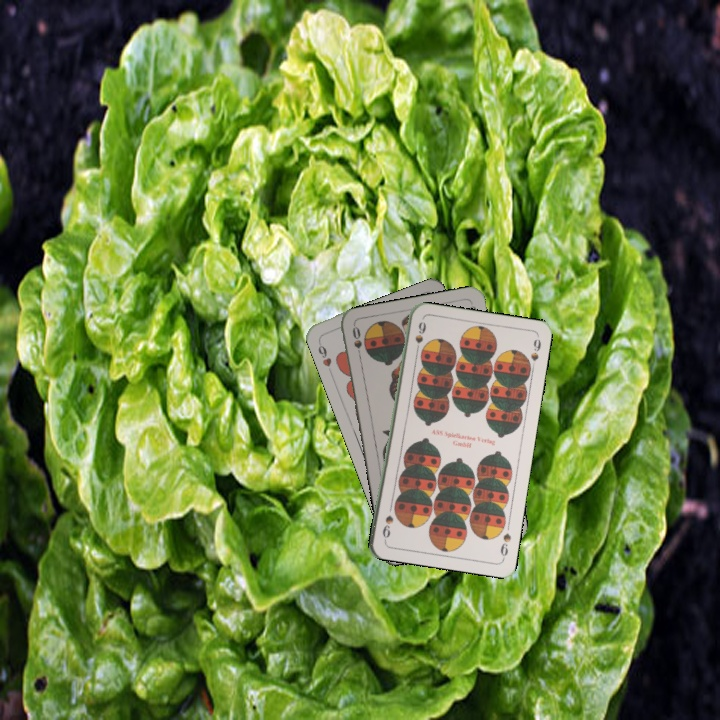H9: (314, 336, 335, 376)
S9: (411, 318, 427, 357), (496, 529, 514, 562)
SO: (348, 322, 365, 363)
